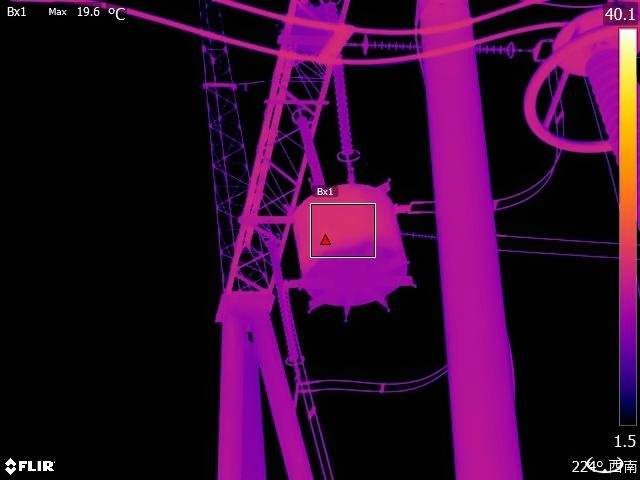insulator: (265, 232, 308, 366), (341, 32, 523, 61), (327, 50, 359, 166), (291, 103, 331, 191)
lightning arrester: (523, 8, 640, 177)
wave trap: (289, 176, 418, 314)
